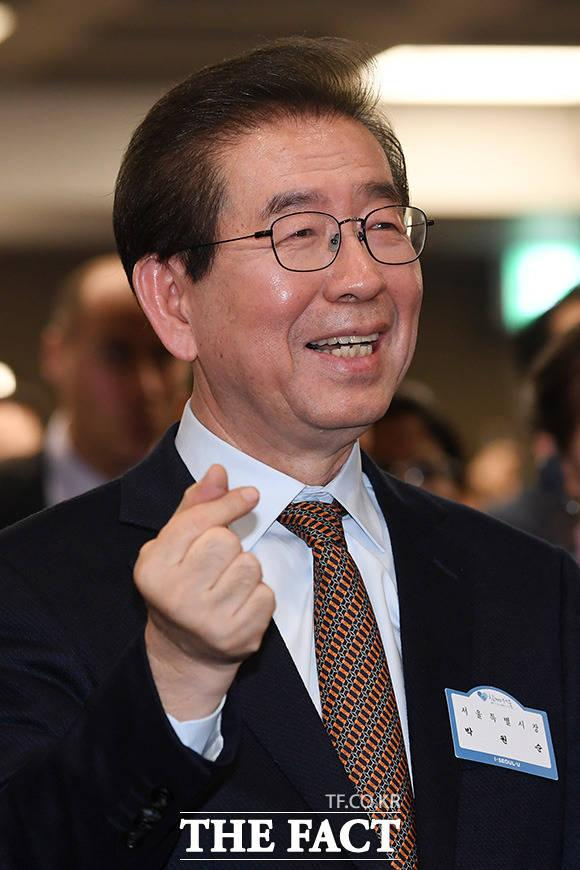heart gesture: (180, 461, 262, 529)
